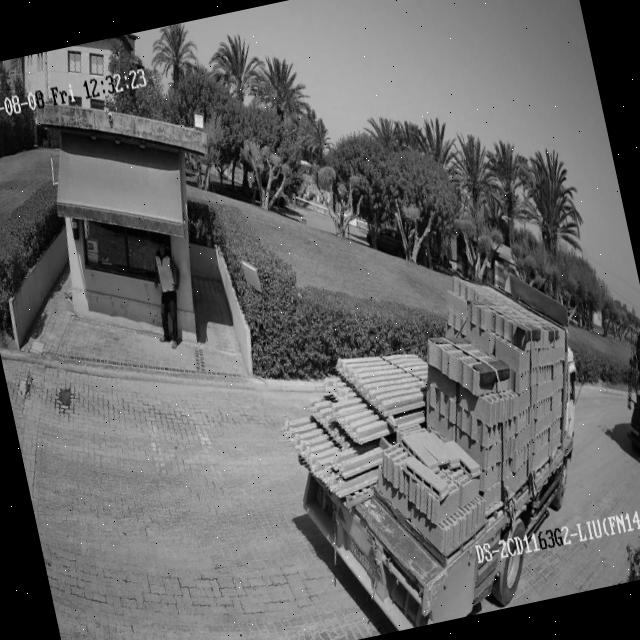bricks: (299, 276, 567, 550)
